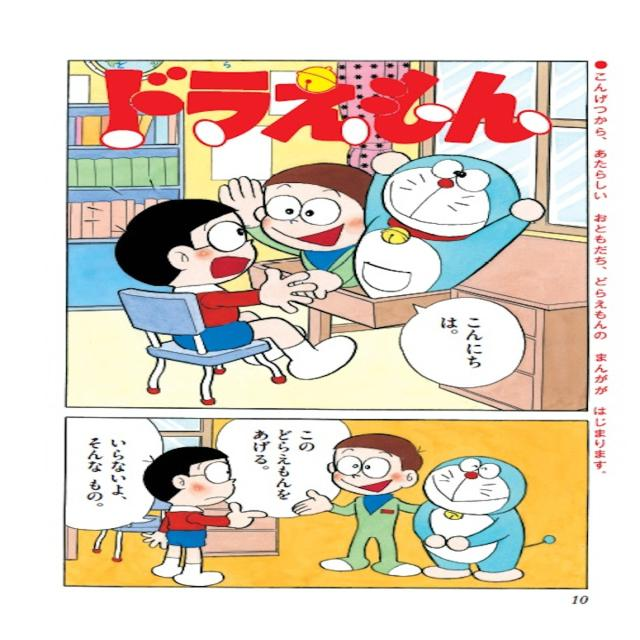doraemon: (355, 149, 547, 251), (414, 446, 544, 536)
nobita: (114, 189, 267, 313), (134, 444, 252, 520)
